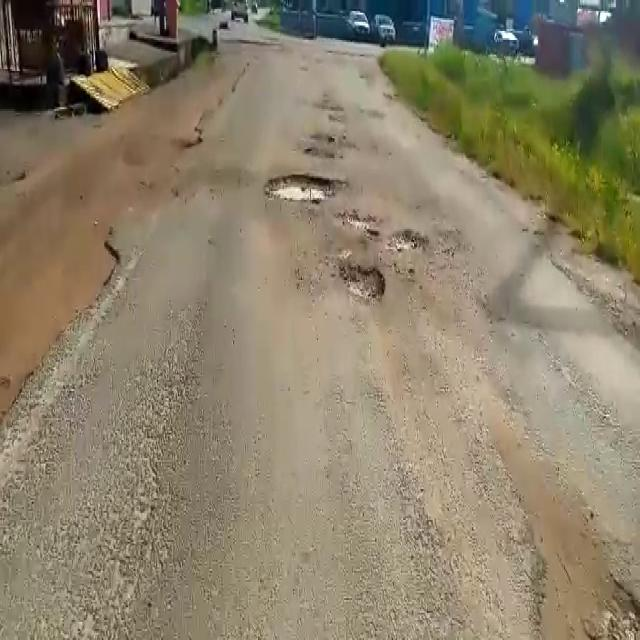Pothole: (263, 170, 342, 205), (339, 261, 388, 306), (386, 223, 428, 258), (338, 210, 381, 236), (306, 130, 346, 150)
